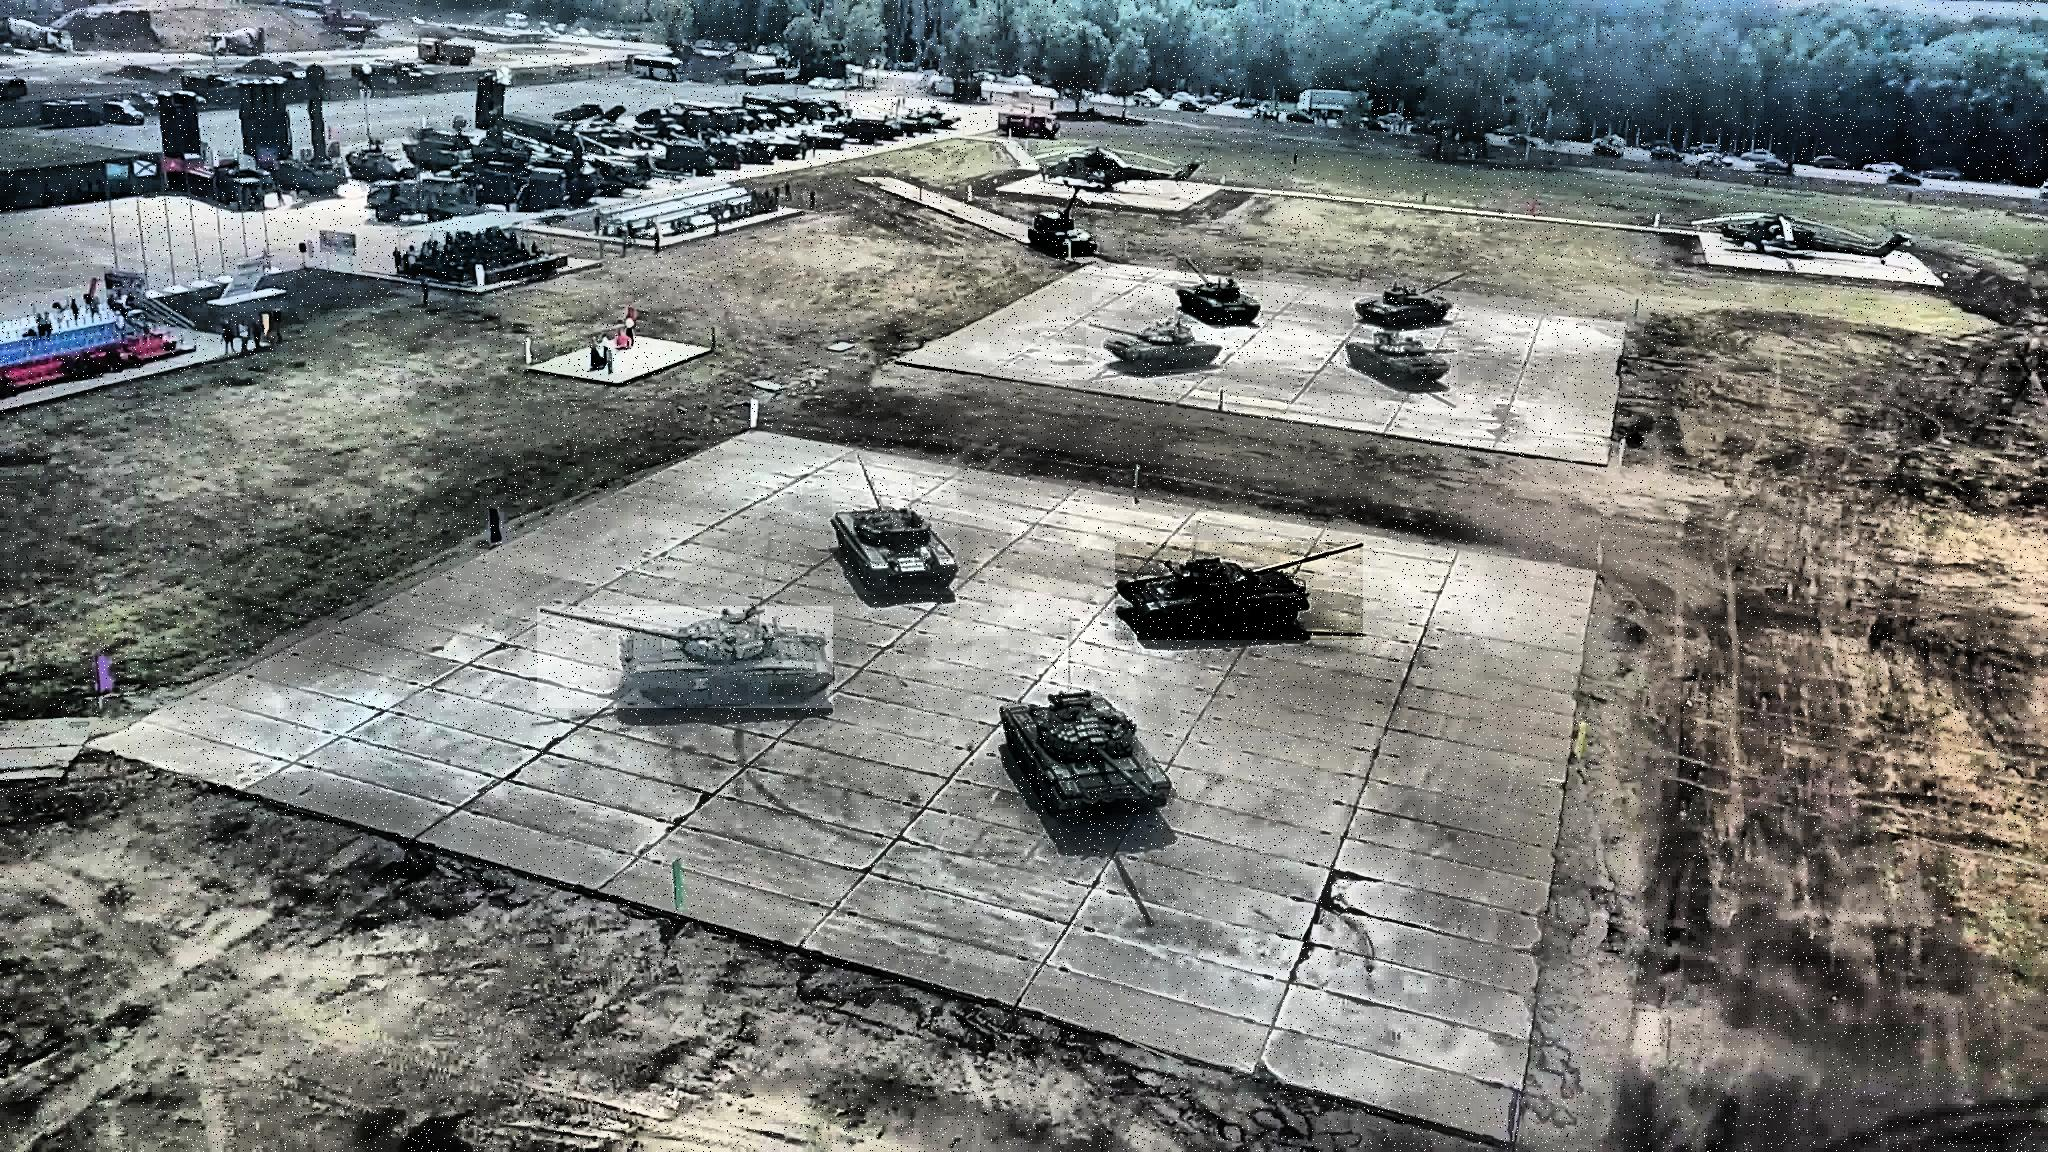military-vehicle: (537, 606, 833, 709), (1115, 542, 1363, 640), (1001, 693, 1170, 814), (833, 454, 958, 594), (1086, 321, 1222, 371), (1346, 331, 1457, 390), (1356, 271, 1466, 326), (1177, 257, 1263, 325), (1028, 186, 1096, 259)
